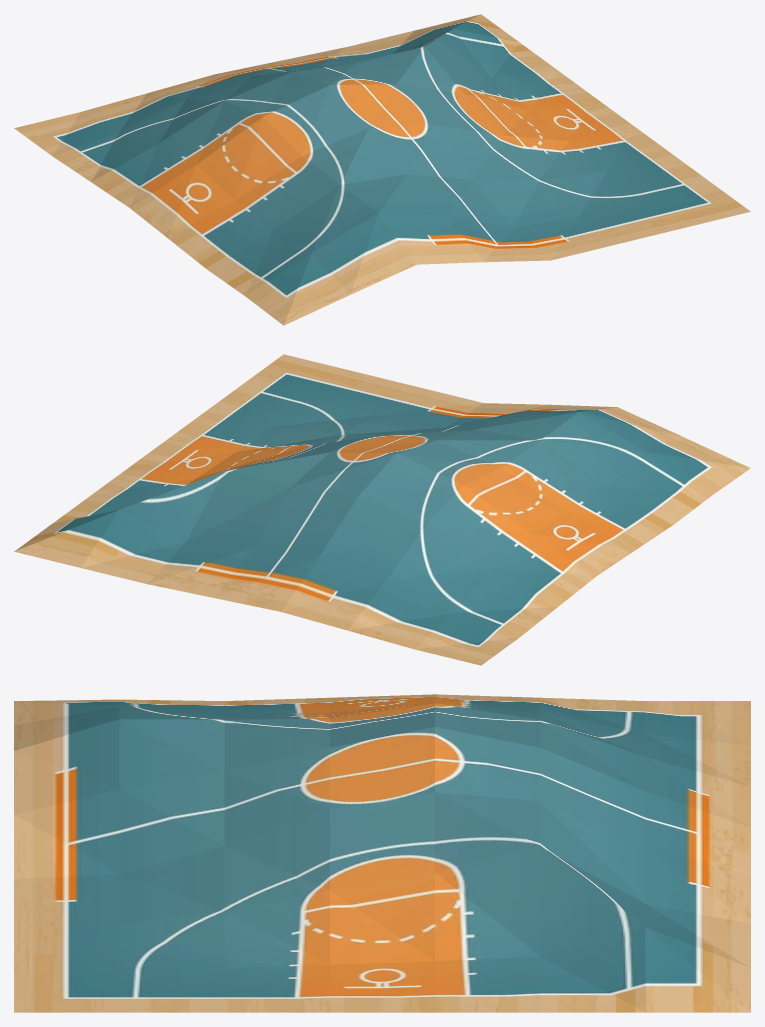
Rendered from plan.obj.
3 views of the same model, one above another, from view 1: azimuth 30°, elevation 25°; view 2: azimuth 150°, elevation 25°; view 3: azimuth 270°, elevation 25° (orthographic). The views are drawn at different scales.
Parts seen in each view (by area): view 1: Plane; view 2: Plane; view 3: Plane.
Boxes of the visible parts, x1=… form: Plane: x1=14, y1=14, x2=750, y2=325; Plane: x1=14, y1=354, x2=750, y2=665; Plane: x1=14, y1=694, x2=750, y2=1012.
Bounding box in the file's own units: 10 × 1.61 × 10.
